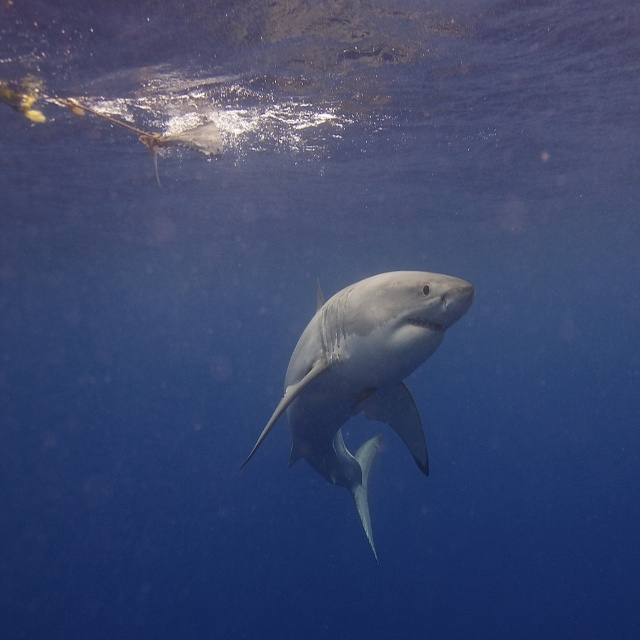Shark: (242, 269, 476, 564)
